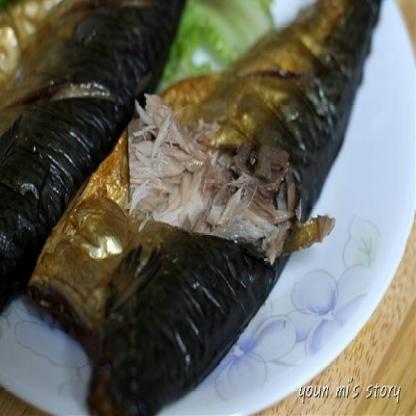Peixe: (0, 0, 383, 416)
